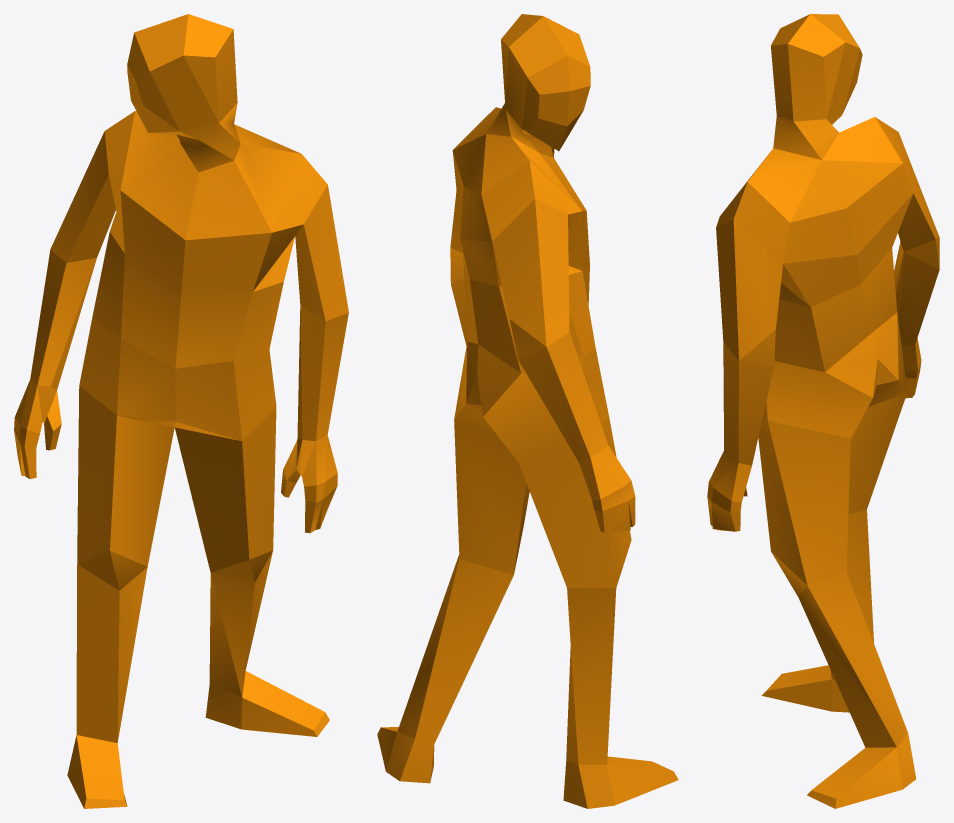
File: Human08.fbx
3 renders of one model, left to right at view 1: azimuth 30°, elevation 25°; view 2: azimuth 150°, elevation 25°; view 3: azimuth 270°, elevation 25°, orthographic. The views are drawn at different scales.
Parts seen in each view (by area): view 1: Human08; view 2: Human08; view 3: Human08.
Part boxes in pixels (<box>): Human08: <box>14,14,348,808</box>; Human08: <box>377,14,678,808</box>; Human08: <box>707,14,939,808</box>.
Size of the model in its own units: 67.73 by 173 by 50.23.
